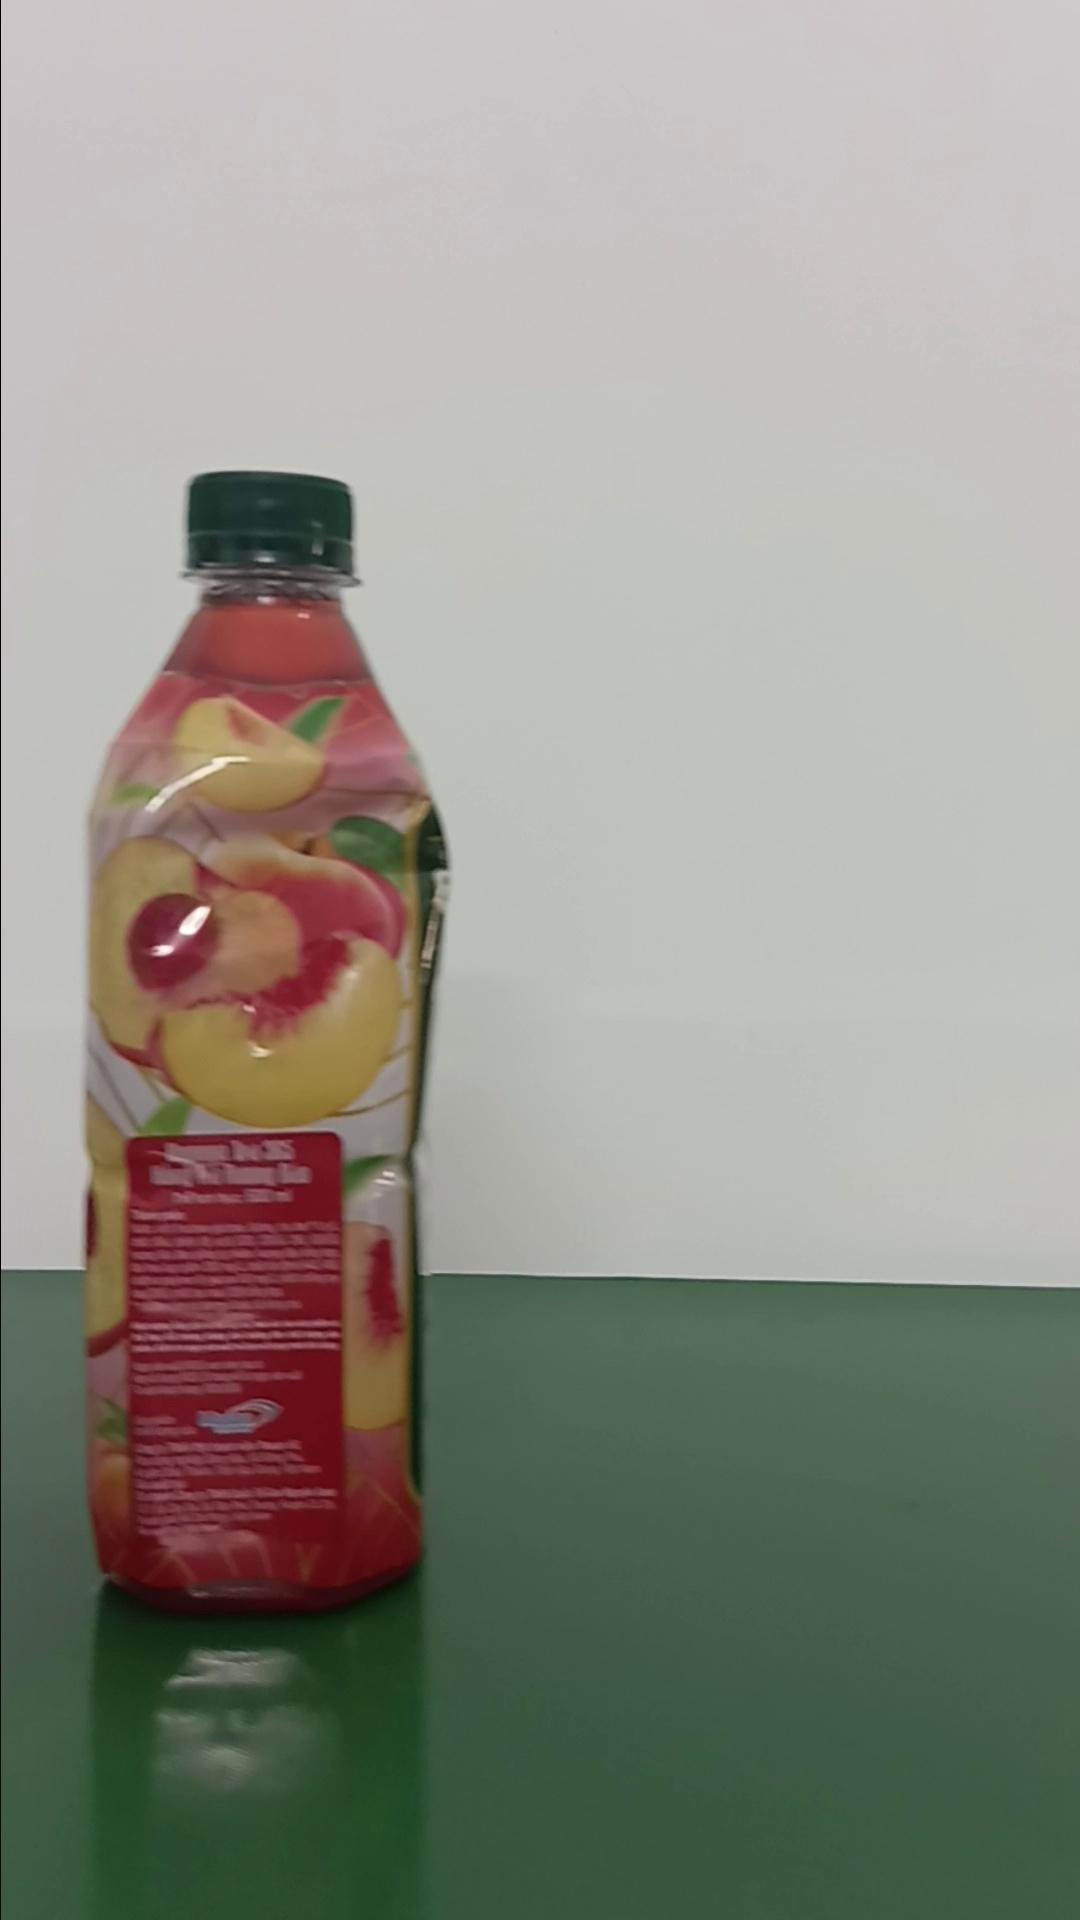loi meo sp: (78, 467, 448, 1614)
